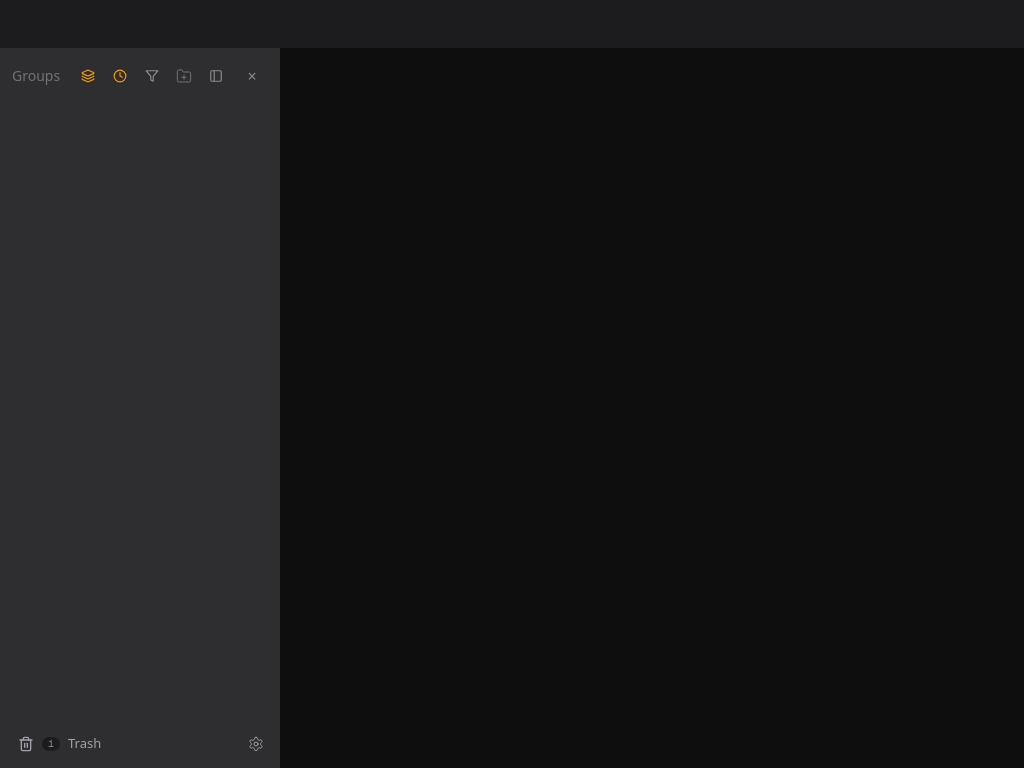
Test: WorkspaceSidebar Trash control (#2489, #2512) › hides Restore/Delete and Empty Trash actions in read-only mode
The width and height of the screenshot is (1024, 768).
Click the button with test id "sidebar-trash-toggle".
click(122, 744)  # box [8, 728, 236, 760]
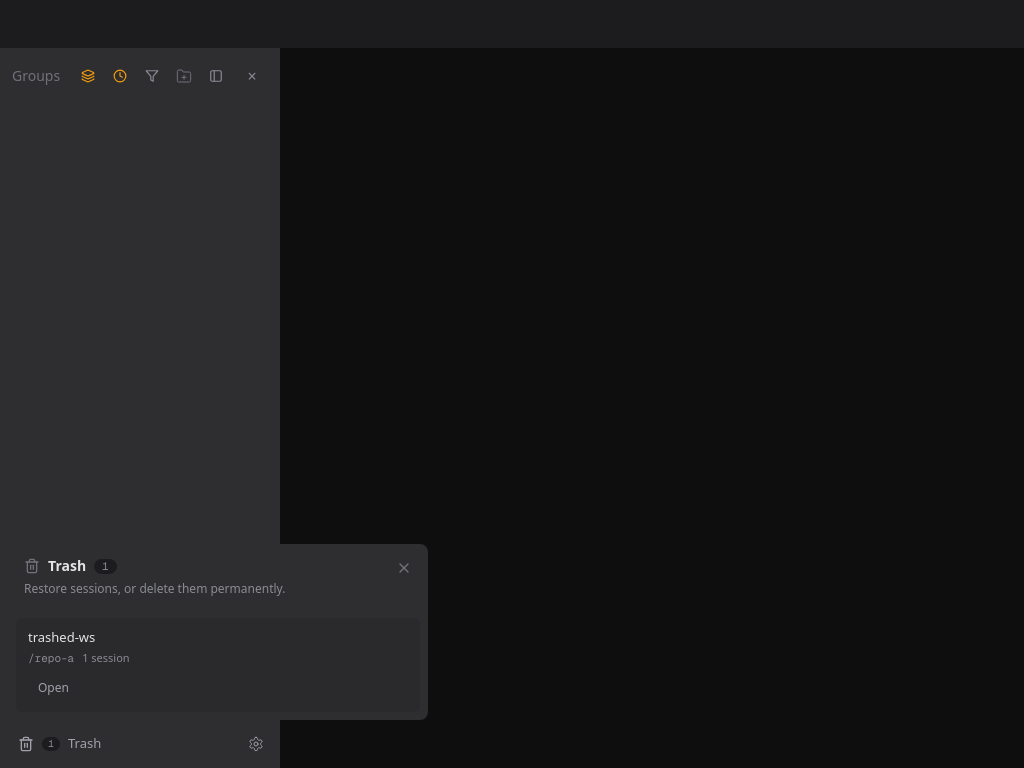
expect the button with test id "sidebar-trash-open" is shown: met, box [28, 674, 79, 702]
